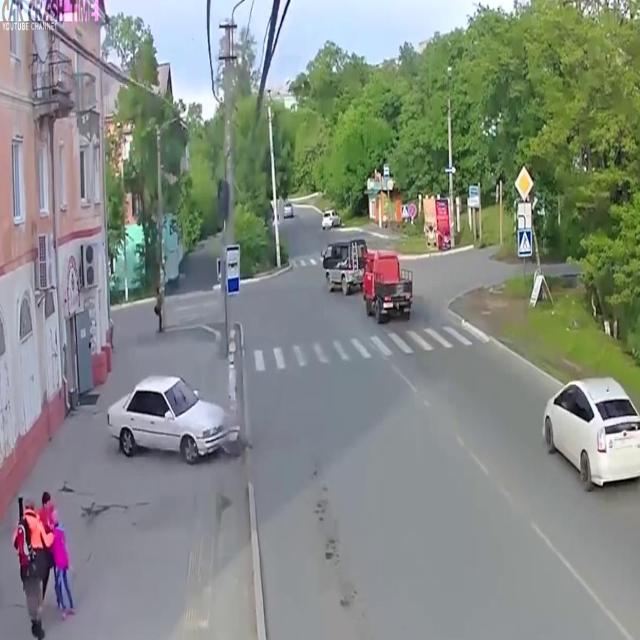accident: (100, 360, 256, 484)
non_accident: (318, 234, 418, 334)
